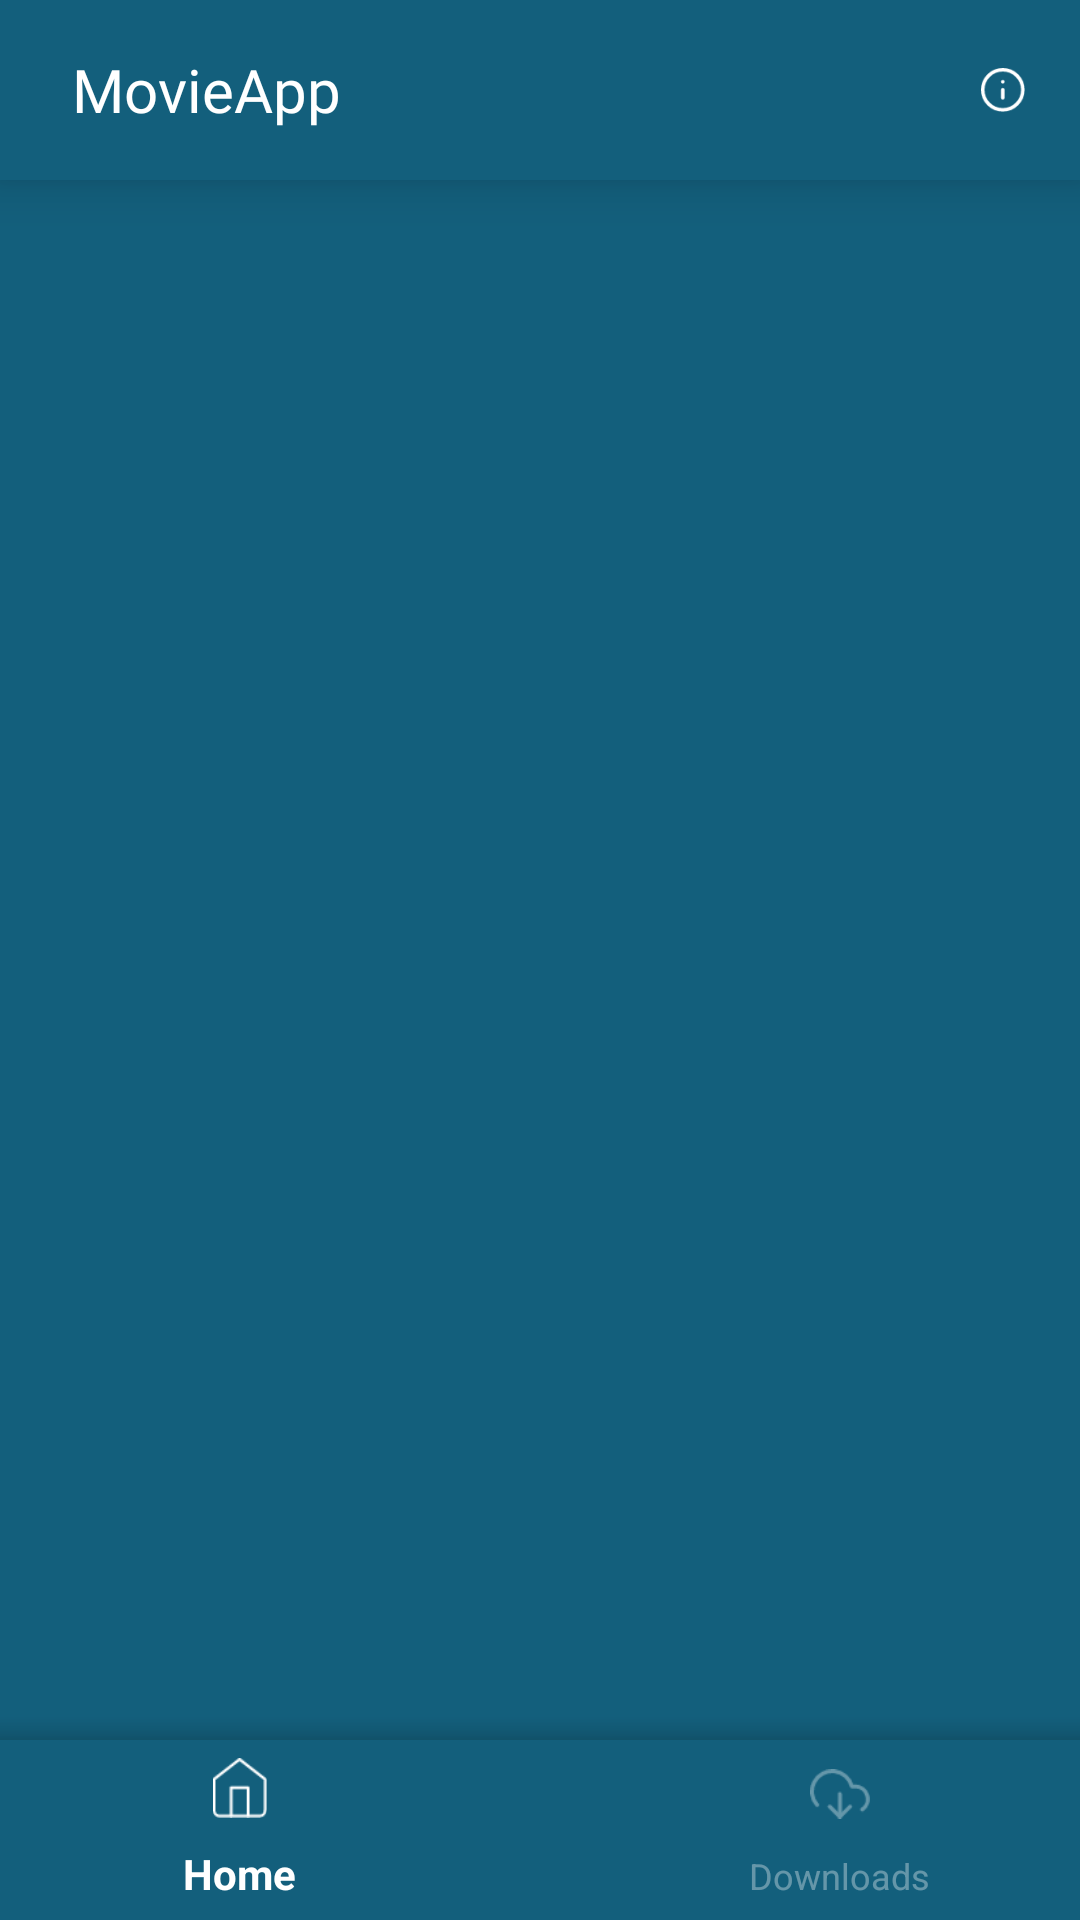

Screen size 1080 x 1920. Icon name, then its center in pixels as [x,y]:
about: [1003,90]
